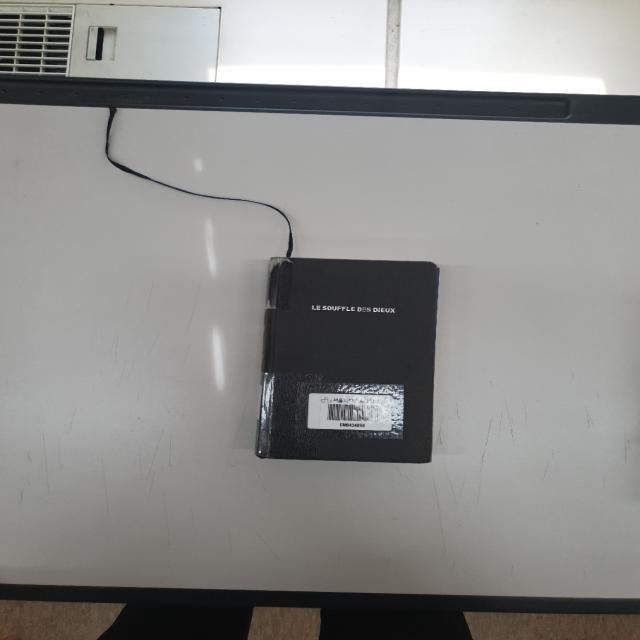Wornout: (427, 256, 442, 275)
